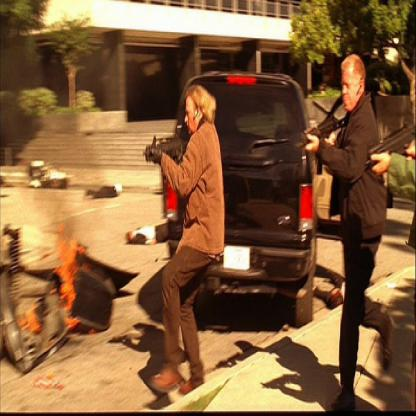Guns: (363, 112, 415, 186), (300, 107, 352, 177), (140, 127, 189, 178)
